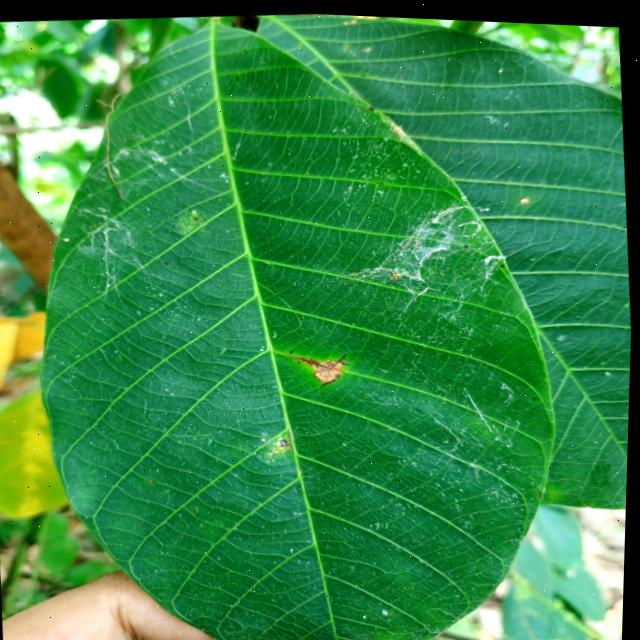Colletotrichum: (519, 192, 531, 200), (194, 215, 200, 219), (337, 370, 341, 373), (332, 361, 336, 363)
Corynespora: (296, 348, 354, 386), (336, 349, 353, 365)
